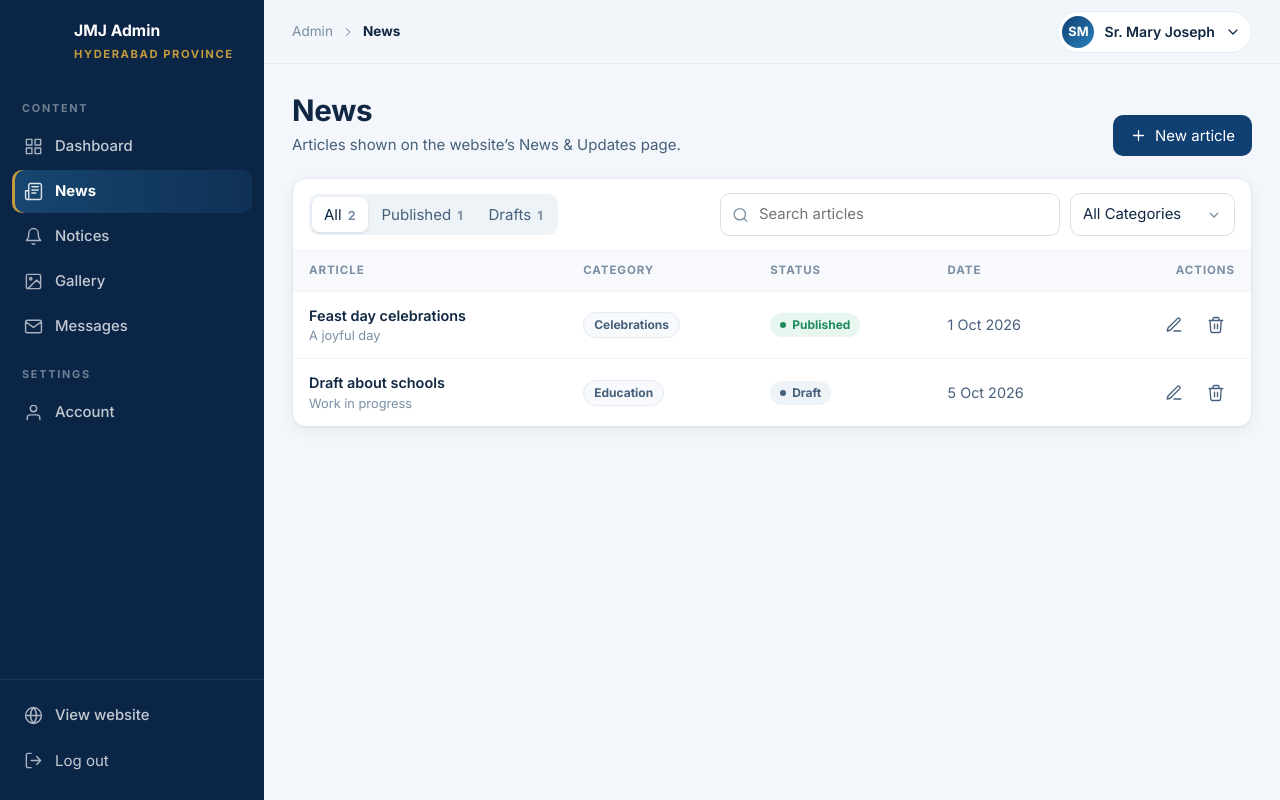
Test: Admin area › filters news by status
This screenshot has width=1280, height=800.
Click the tab "Drafts1". click: (516, 215)
box: [476,197,554,232]
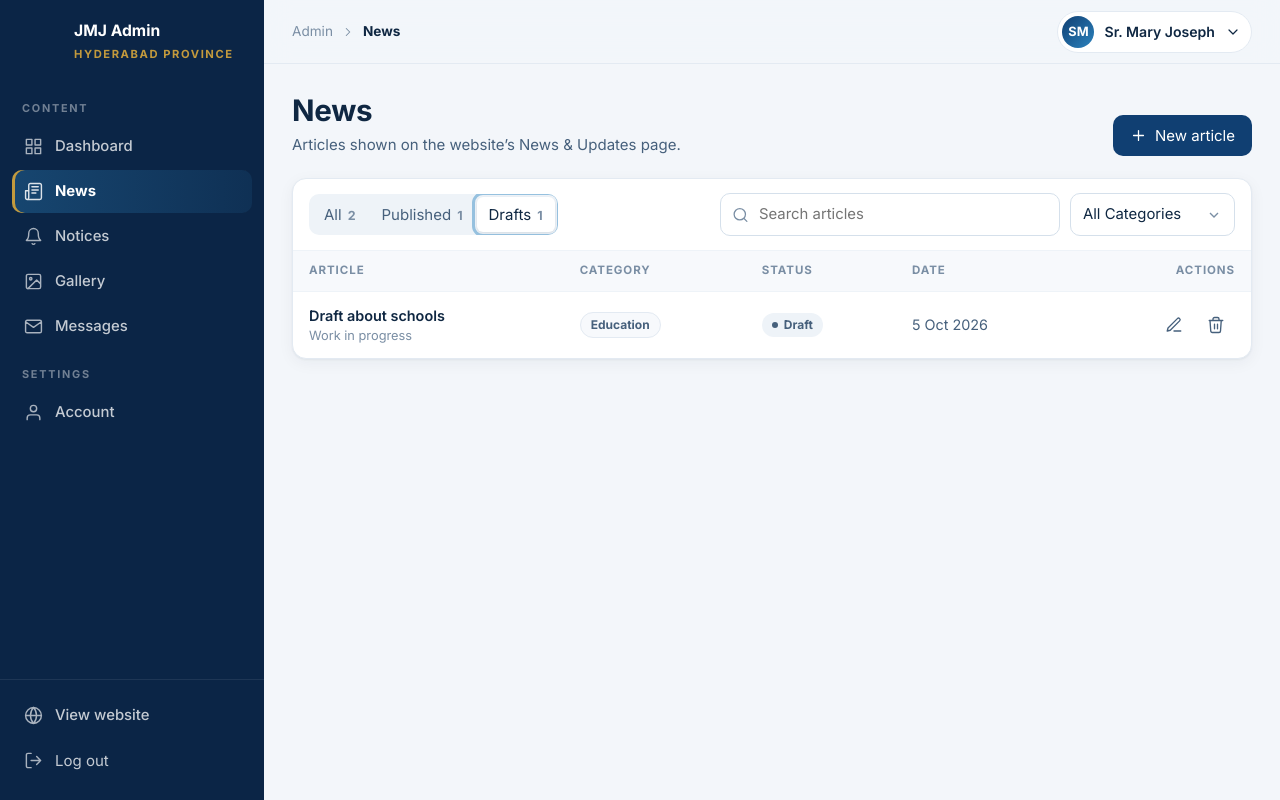
Expected: the text "Draft about schools" is shown, [309,306,445,324]
Now the text "Feast day celebrations" is not shown
